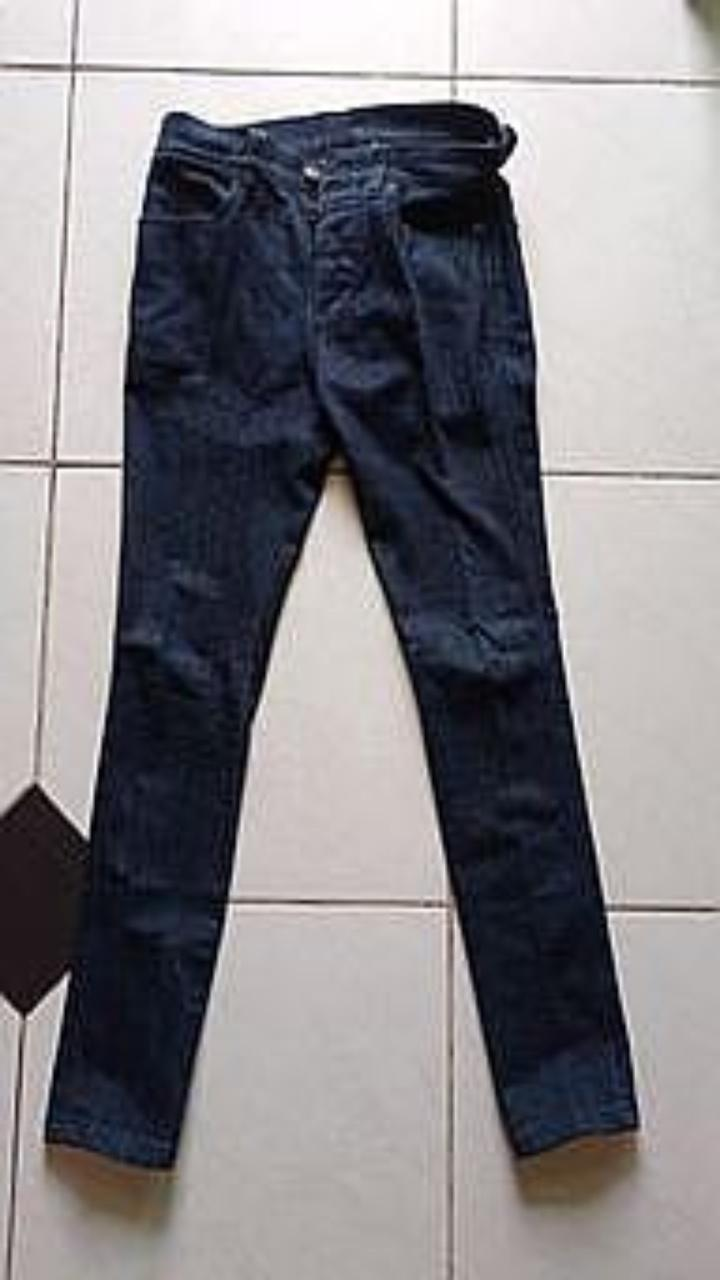Jeans: (45, 99, 638, 1166)
